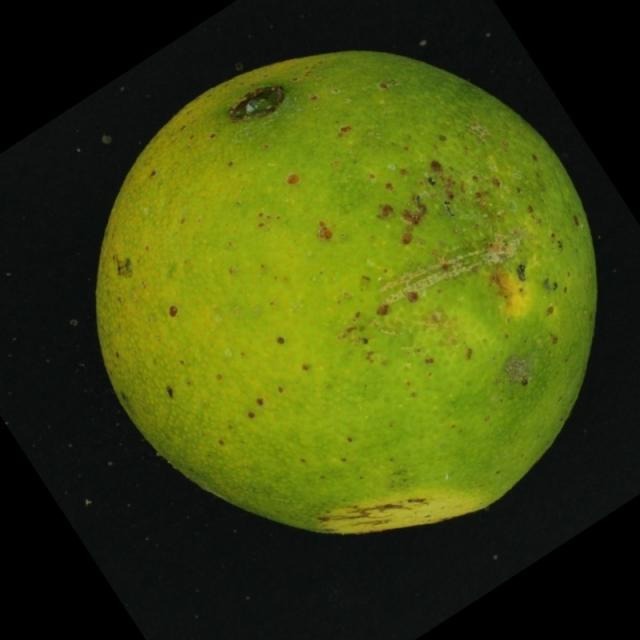grenning: (66, 26, 619, 566)
